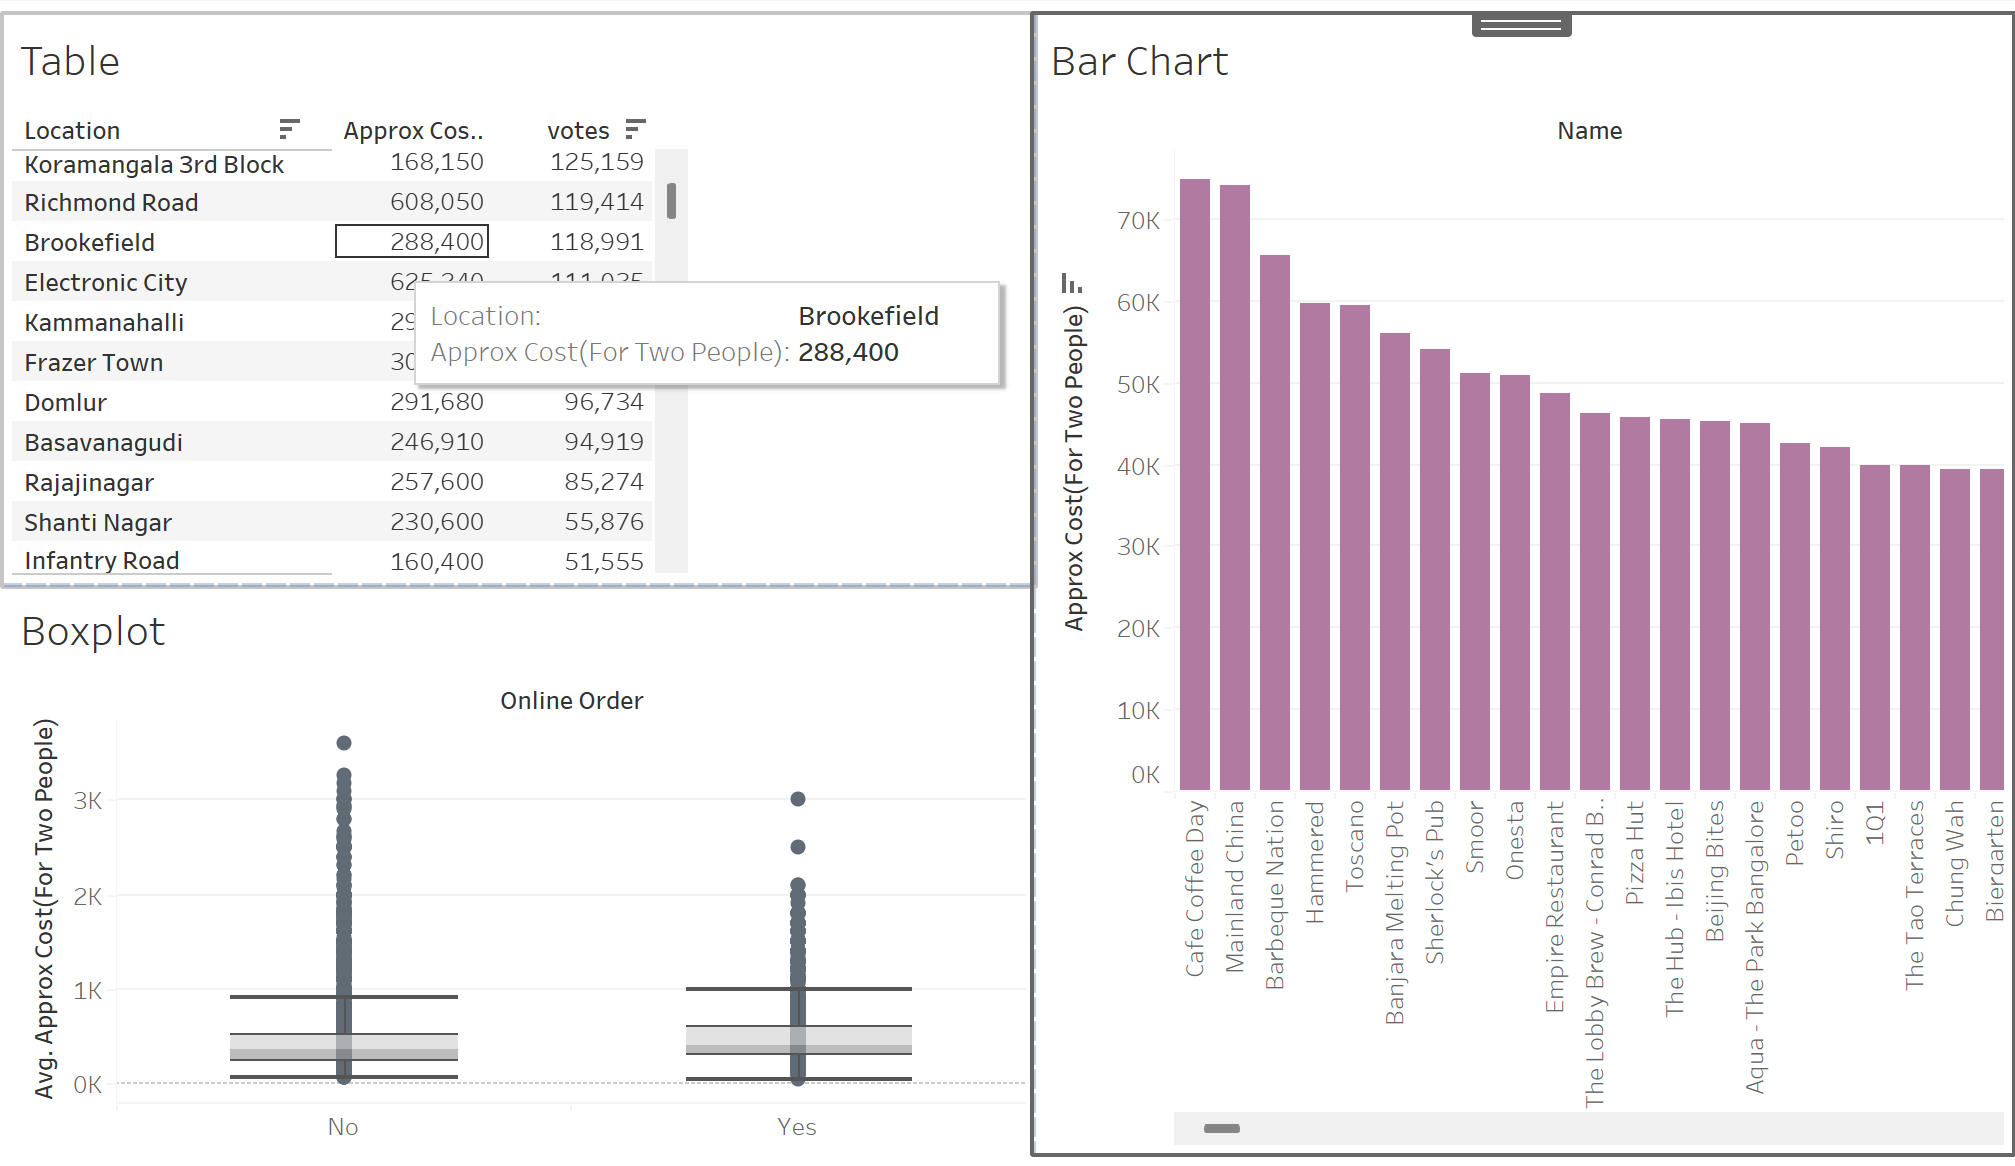

What the dashboard file says about the page in this screenshot:
{"tool":"tableau","page":{"name":"Dashboard 1","canvas":[1000,1000],"units":"permille","ordinal":0},"visuals":[{"type":"worksheet","title":"Sheet 1","mark":"Automatic","rows":["NumStores"],"cols":["IndustryType"],"box":[7.8,12.1,413.7,487.9]},{"type":"worksheet","title":"Sheet 2","mark":"Automatic","rows":["Salerank"],"cols":["Retailer"],"box":[421.5,12.1,413.8,487.9]},{"type":"filter","title":"Sheet 4","param":"[federated.1yupu5b19jwzh81e5fbxm1jdaiyh].[none:Salary Frequency:nk]","box":[835.3,12.1,156.9,134.8]},{"type":"legend","title":"Sheet 4","param":"[federated.1yupu5b19jwzh81e5fbxm1jdaiyh].[cnt:Salary Frequency:qk]","box":[835.3,147,156.9,98.5]},{"type":"worksheet","title":"Sheet 7","mark":"Automatic","rows":["Salary Range From"],"cols":["Salary Range To"],"box":[835.3,245.5,156.9,247.5]},{"type":"legend","title":"Sheet 5","param":"[federated.1yupu5b19jwzh81e5fbxm1jdaiyh].[none:Level:nk]","box":[835.3,492.9,156.9,247.5]},{"type":"worksheet","title":"Sheet 4","mark":"Automatic","box":[7.8,500,413.7,487.9]},{"type":"worksheet","title":"Sheet 5","mark":"Automatic","box":[421.5,500,413.8,487.9]},{"type":"worksheet","title":"Sheet 6","mark":"Automatic","rows":["Salary Range From"],"cols":["Salary Range To"],"box":[835.3,740.4,156.9,247.5]}]}

Visuals, with their boxes on the dashboard's canvas, which has no fixed pixel size, in thousandths of its width and height (x1, y1, x2, y2). These are canvas units, not pixel positions in the 2015x1166 screenshot, which may show the page scaled, cropped or inside an application window:
"Sheet 1" worksheet: (left=8, top=12, right=422, bottom=500)
"Sheet 2" worksheet: (left=422, top=12, right=835, bottom=500)
"Sheet 4" filter: (left=835, top=12, right=992, bottom=147)
"Sheet 4" legend: (left=835, top=147, right=992, bottom=246)
"Sheet 7" worksheet: (left=835, top=246, right=992, bottom=493)
"Sheet 5" legend: (left=835, top=493, right=992, bottom=740)
"Sheet 4" worksheet: (left=8, top=500, right=422, bottom=988)
"Sheet 5" worksheet: (left=422, top=500, right=835, bottom=988)
"Sheet 6" worksheet: (left=835, top=740, right=992, bottom=988)
